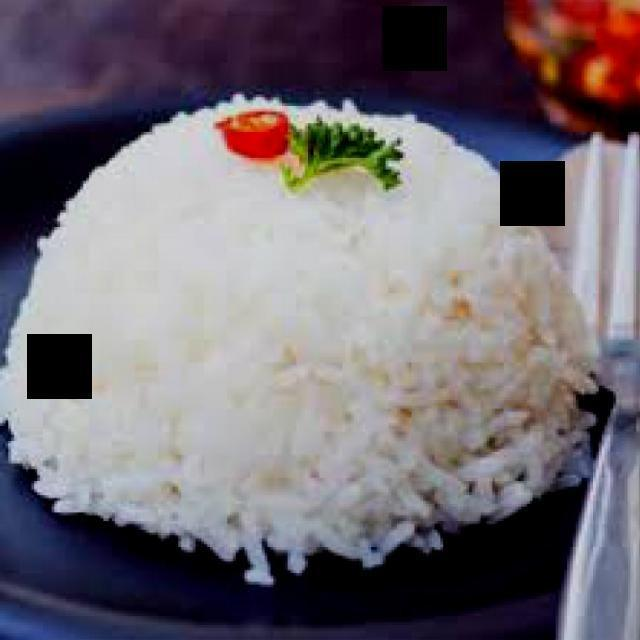Chicken -Chicken Inasal-: (3, 98, 596, 580)
